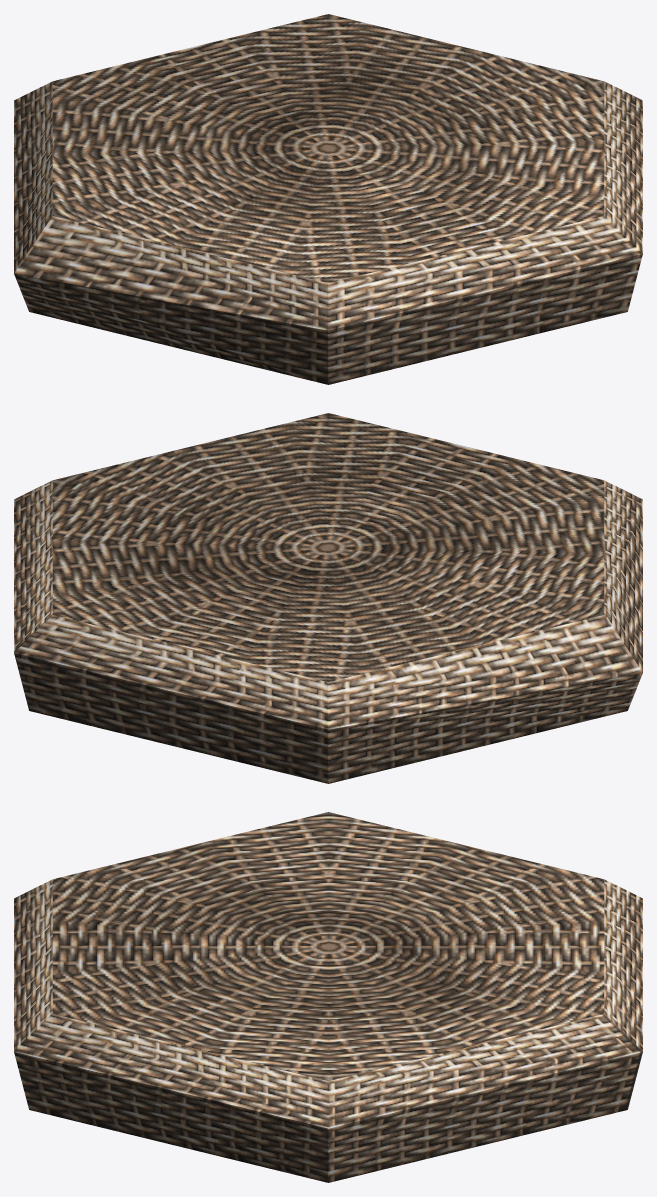
Rendered from basket2_LOD2.FBX.
3 renders of one model, top to bottom at view 1: azimuth 30°, elevation 25°; view 2: azimuth 150°, elevation 25°; view 3: azimuth 270°, elevation 25°, orthographic.
Visible parts, largest first — view 1: basket2_LOD2; view 2: basket2_LOD2; view 3: basket2_LOD2.
Part boxes in pixels (x1,y1,x2,y2): basket2_LOD2: (14, 14, 642, 384); basket2_LOD2: (14, 413, 642, 783); basket2_LOD2: (14, 812, 642, 1182).
Size of the model in its own units: 54.88 by 7.53 by 47.53.
